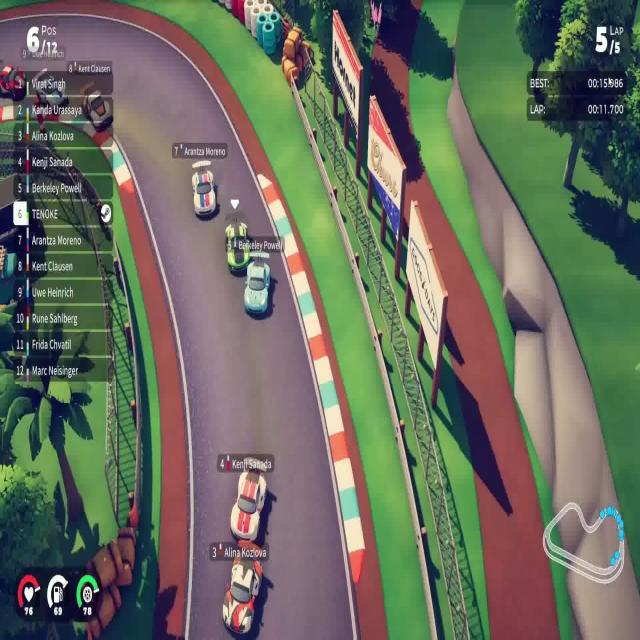car: (221, 556, 263, 636), (230, 467, 268, 543), (78, 82, 114, 133), (243, 258, 271, 316), (224, 217, 251, 275), (191, 161, 217, 218)
